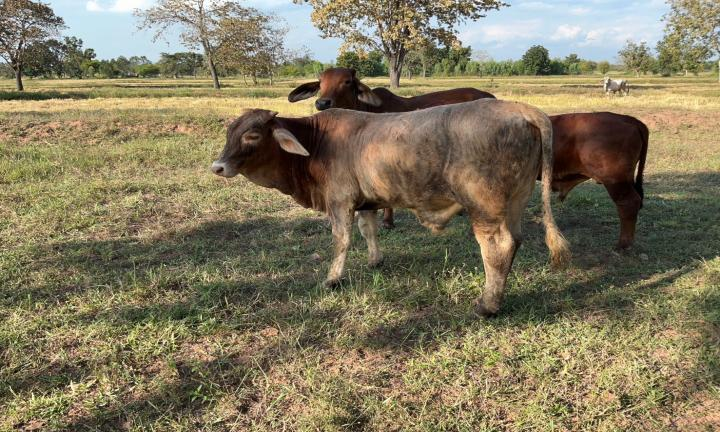Charolais: (212, 99, 553, 317)
